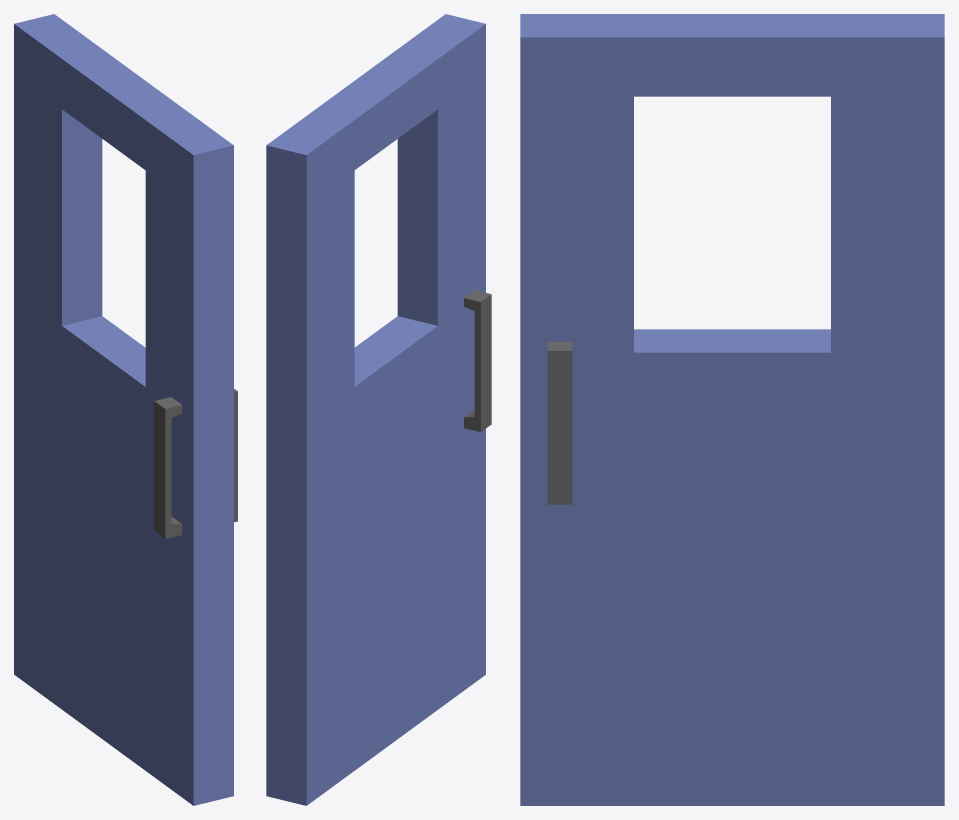
File: Swing door.fbx
3 views of the same model, side by side, from view 1: azimuth 30°, elevation 25°; view 2: azimuth 150°, elevation 25°; view 3: azimuth 270°, elevation 25° (orthographic). The views are drawn at different scales.
Visible parts, largest first — view 1: Swing door, Door handle, Door handle 2; view 2: Swing door, Door handle; view 3: Swing door, Door handle 2.
Part boxes in pixels (bbox=[...]): Swing door: bbox=[14, 14, 233, 805]; Door handle: bbox=[154, 397, 182, 538]; Door handle 2: bbox=[234, 388, 237, 522]; Swing door: bbox=[266, 14, 485, 805]; Door handle: bbox=[464, 290, 491, 432]; Swing door: bbox=[520, 14, 944, 805]; Door handle 2: bbox=[547, 342, 572, 504].
Size of the model in its own units: 234 by 2000 by 1000.
